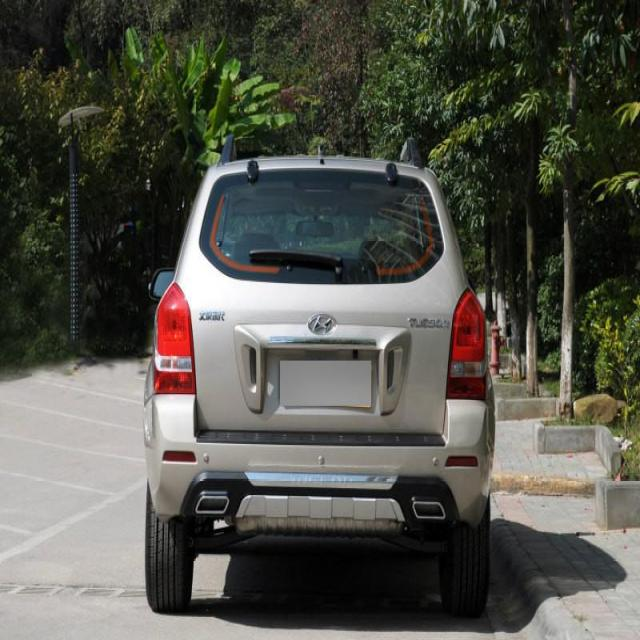back_glass: (198, 168, 446, 285)
back_left_side_light: (154, 278, 198, 398)
back_right_side_light: (443, 284, 489, 405)
front_left_side_mirror: (146, 264, 178, 299)
rear_bumper: (142, 389, 498, 522)
wheel: (146, 482, 192, 616), (438, 504, 492, 614)
